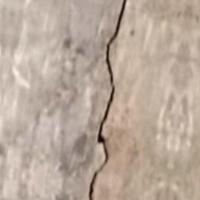crack: (83, 0, 139, 199)
